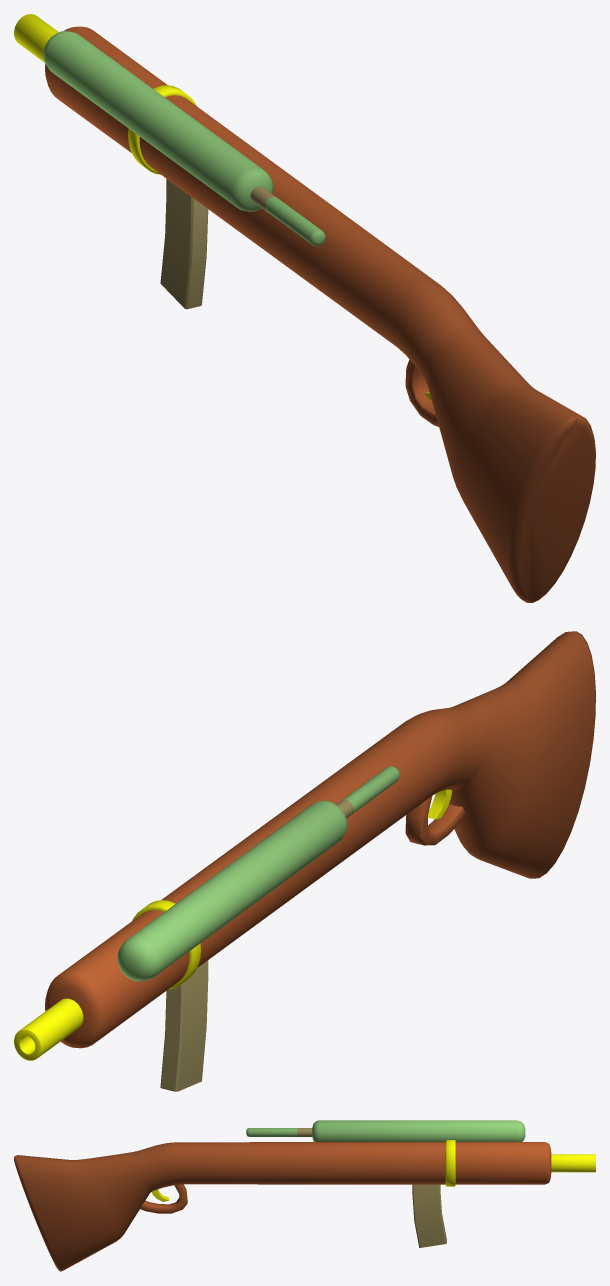
File: rifle.fbx
3 views of the same model, one above another, from view 1: azimuth 30°, elevation 25°; view 2: azimuth 150°, elevation 25°; view 3: azimuth 270°, elevation 25° (orthographic). The views are drawn at different scales.
Parts seen in each view (by area): view 1: Cylinder; view 2: Cylinder; view 3: Cylinder.
Boxes of the visible parts, box(x1,y1,x2,y2) form: Cylinder: box(14, 14, 595, 602); Cylinder: box(14, 631, 595, 1091); Cylinder: box(14, 1120, 595, 1271).
Bounding box in the file's own units: 0.9928 × 2.64 × 9.94.
1 material, 1 textured.
